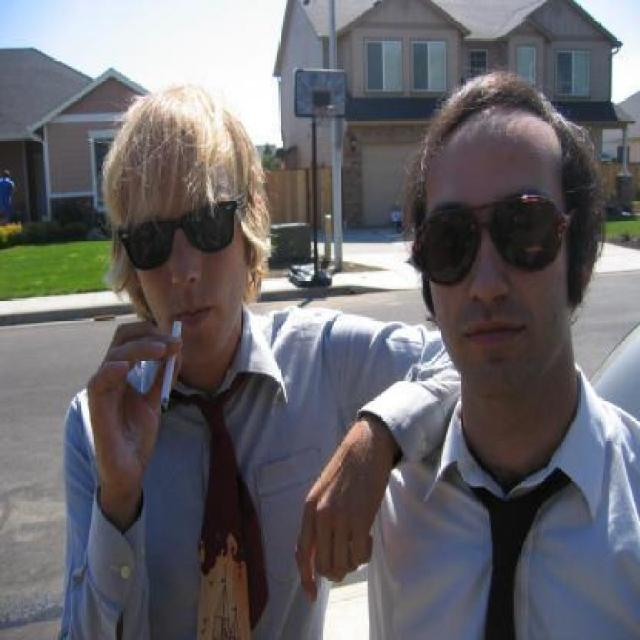face_nomask: (418, 185, 557, 362), (120, 208, 258, 341)
glasses: (411, 192, 566, 282), (113, 200, 245, 268)
hand_noglove: (276, 398, 406, 598), (74, 326, 194, 465)
head_nohelmet: (92, 89, 268, 200), (405, 77, 589, 171)
